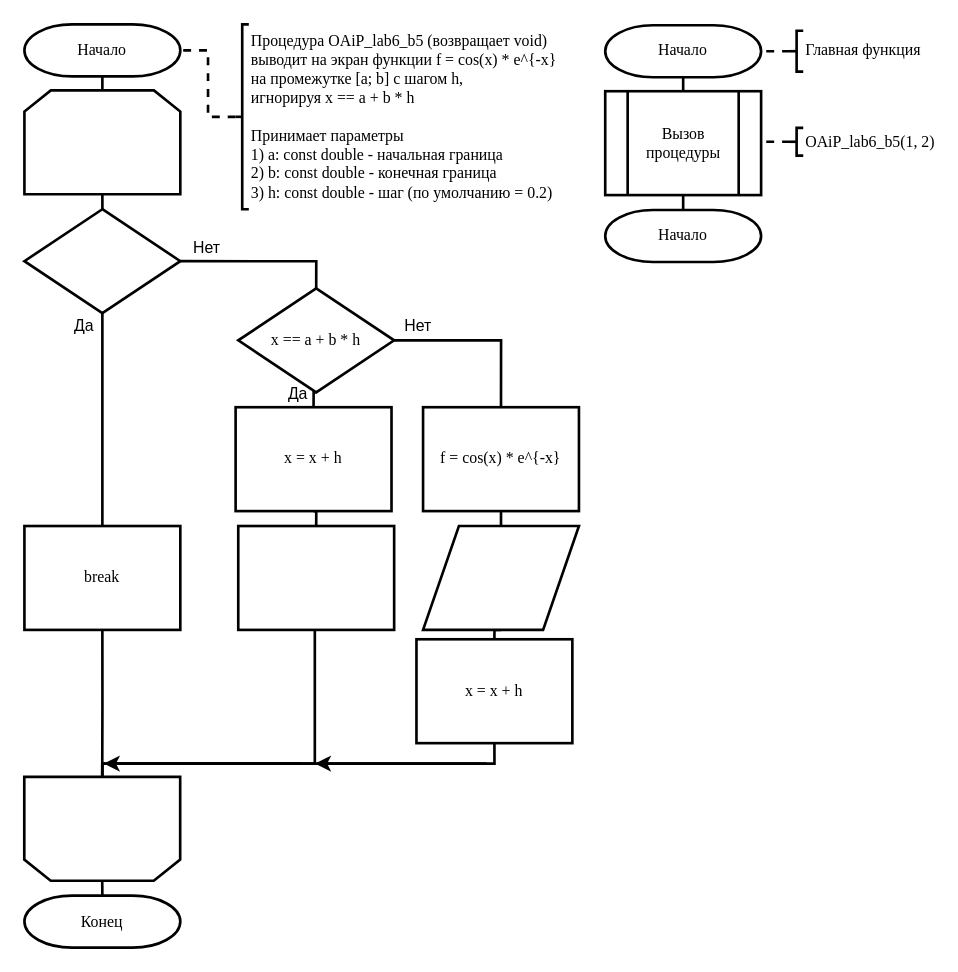
The diagram is 958 pixels wide and 972 high, and some of its shapes have lost their labels. Each missing label, with the centre of its shape:
"1 (бесконечный цикл)" goes at (101,828).
"continue" goes at (315,577).
"x >= b" goes at (101,260).
"Начало цикла" goes at (101,141).
"Форматный вывод f(x) = f" goes at (500,577).
